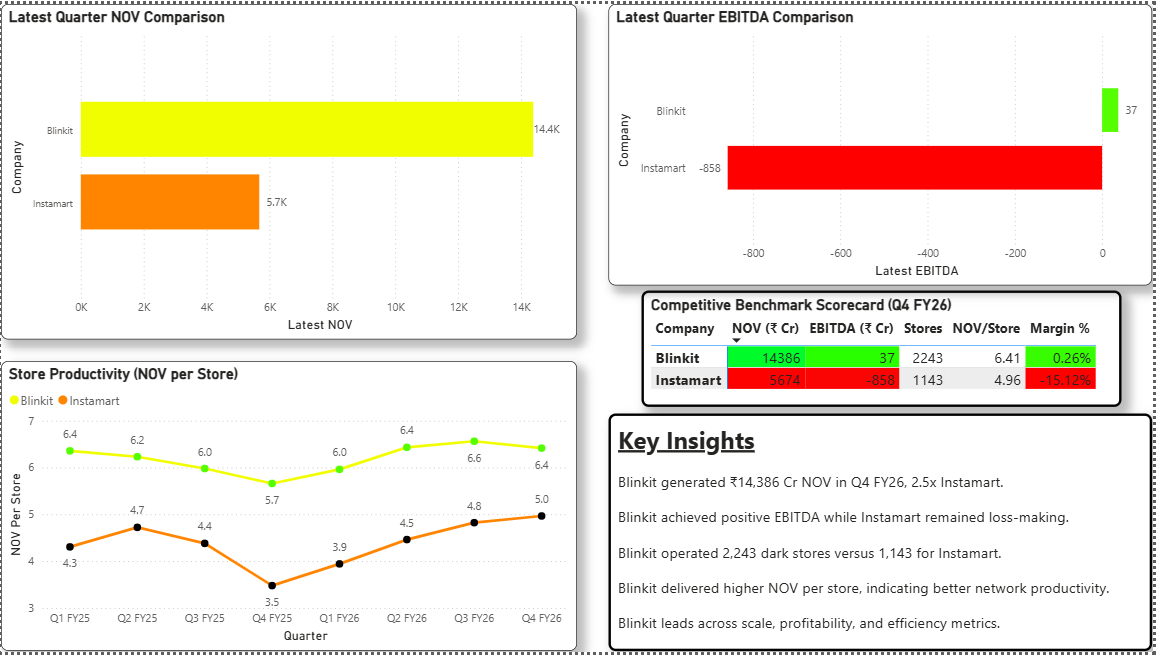

What the dashboard file says about the page in this screenshot:
{"tool":"powerbi","page":{"name":"Competitive Benchmarking","canvas":[1280,720],"ordinal":1},"visuals":[{"type":"pivotTable","title":"Competitive Benchmark Scorecard (Q4 FY26)","fields":{"Rows":["Dim_Company.Company"],"Values":["Dim_Date.Latest NOV","Dim_Date.Latest EBITDA","Dim_Date.Latest Dark Stores","Dim_Date.Latest NOV Per Store","Dim_Date.Latest EBITDA Margin %"]},"box":[710.9,319.1,533.6,129.1],"z":0},{"type":"clusteredBarChart","title":"Latest Quarter NOV Comparison","fields":{"Category":["Dim_Company.Company"],"Y":["Dim_Date.Latest NOV"]},"box":[0,0,640,372.9],"z":1000},{"type":"clusteredBarChart","title":"Latest Quarter EBITDA Comparison","fields":{"Category":["Dim_Company.Company"],"Y":["Dim_Date.Latest EBITDA"]},"box":[675.7,0,604.3,312.9],"z":2000},{"type":"lineChart","title":"Store Productivity (NOV per Store)","fields":{"Category":["Dim_Date.Quarter"],"Series":["Dim_Company.Company"],"Y":["Fact_QuickCommerce.NOV Per Store"]},"box":[0,396.7,640,321.7],"z":3000},{"type":"textbox","box":[675.7,454.3,604.3,264.3],"z":4000}]}

Visuals, with their boxes in screenshot pixels (x1, y1, x2, y2), scaled from the page's 1280x720 canvas onto the 1156x657 screenshot:
"Competitive Benchmark Scorecard (Q4 FY26)" pivotTable: 642/291/1124/409
"Latest Quarter NOV Comparison" clusteredBarChart: 0/0/578/340
"Latest Quarter EBITDA Comparison" clusteredBarChart: 610/0/1155/286
"Store Productivity (NOV per Store)" lineChart: 0/362/578/656
textbox: 610/415/1155/656
